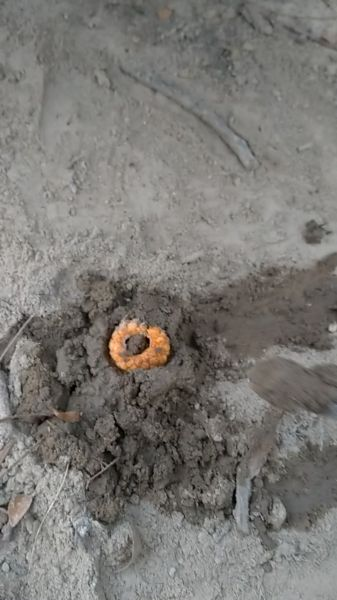eggs: (104, 318, 173, 370)
